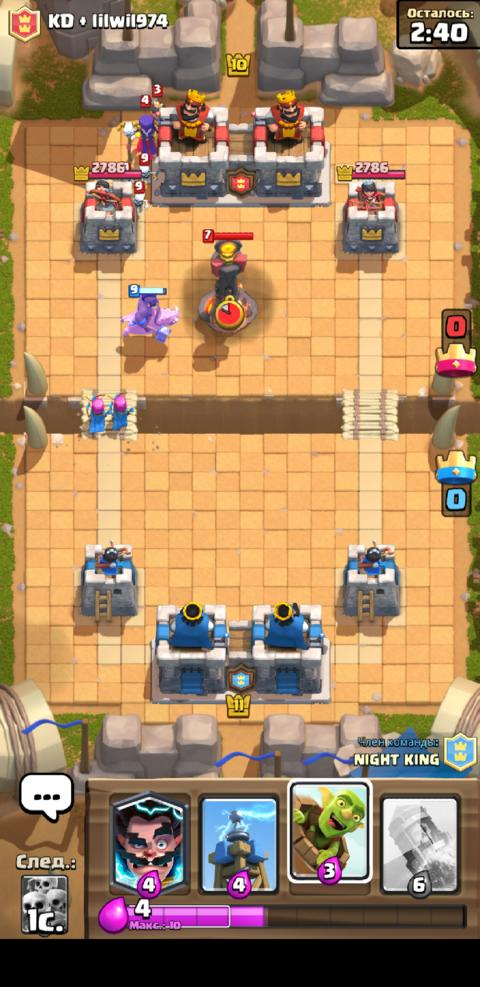ally_archer: (106, 389, 135, 432), (81, 390, 106, 434)
ally_hog_rider: (116, 282, 180, 344)
enemy_inferno_tower: (194, 227, 258, 334)
enemy_princess: (148, 81, 162, 132)
enemy_skeleton: (137, 152, 160, 183), (131, 179, 148, 214)
enemy_witch: (115, 93, 160, 164)
